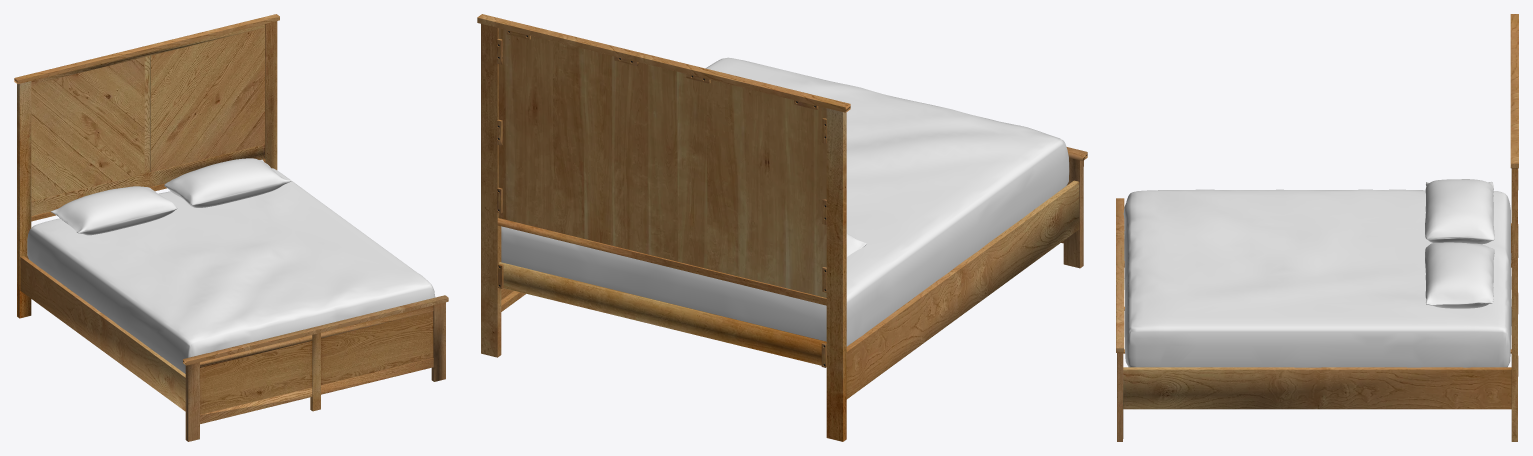
File: B071FJR3T4.glb
3 views of the same model, side by side, from view 1: azimuth 30°, elevation 25°; view 2: azimuth 150°, elevation 25°; view 3: azimuth 270°, elevation 25° (orthographic). The views are drawn at different scales.
Visible parts, largest first — view 1: RootNode; view 2: RootNode; view 3: RootNode.
Part boxes in pixels (bbox=[...]): RootNode: bbox=[14, 14, 448, 441]; RootNode: bbox=[477, 14, 1087, 441]; RootNode: bbox=[1116, 14, 1518, 441].
Size of the model in its own units: 1.94 by 1.69 by 2.2.
Materials: 1 (1 with a texture image).
